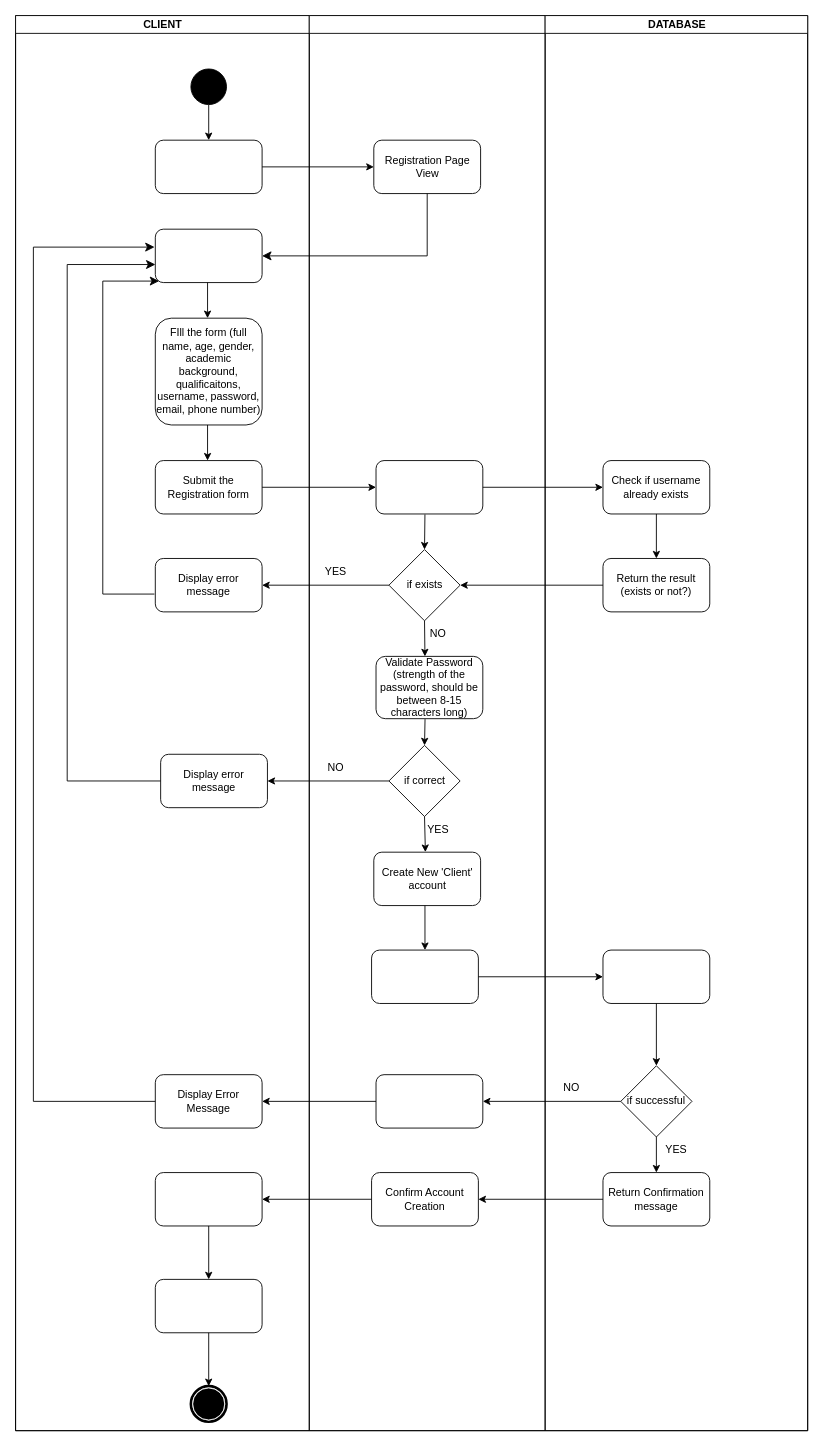
This 823x1446 diagram has some shape labels left out. Each missing label, with the box of its shape:
Add new Client details in the database: (371, 949, 478, 1003)
Display Confirmation message: (154, 1172, 262, 1226)
Display Registration Form: (154, 228, 262, 283)
Open Application: (154, 139, 262, 194)
Redirect to Login Page: (154, 1278, 262, 1333)
Return Error Message: (375, 1074, 483, 1128)
SYSTEM: (308, 15, 545, 1431)
Update Database: (602, 949, 710, 1003)
Validate Username: (375, 460, 483, 514)
